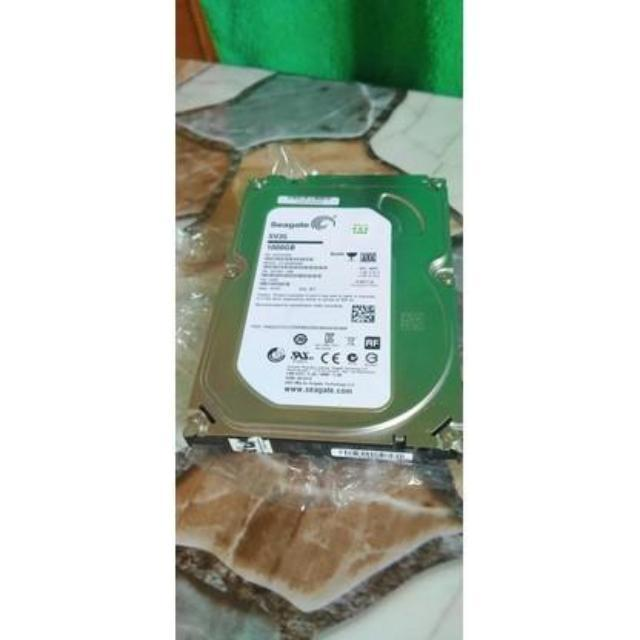DISK: (190, 160, 476, 482)
